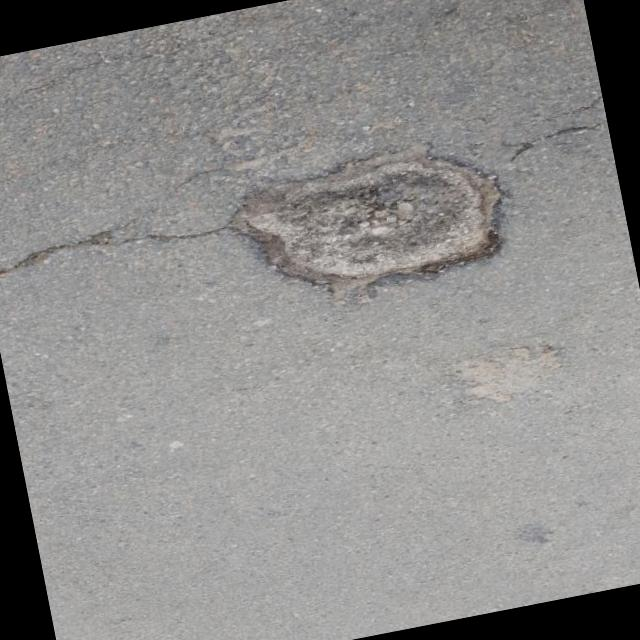pothole: (210, 132, 536, 322)
